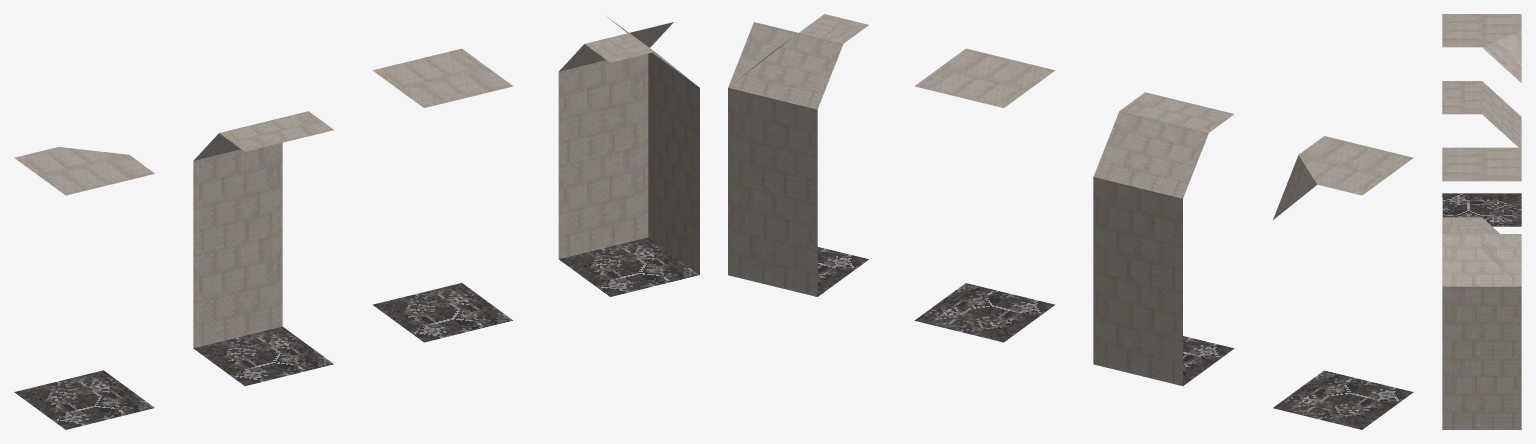
The model's file is tileset.gltf.
3 renders of one model, left to right at view 1: azimuth 30°, elevation 25°; view 2: azimuth 150°, elevation 25°; view 3: azimuth 270°, elevation 25°, orthographic. The views are drawn at different scales.
Visible parts, largest first — view 1: corner, wall, floor, corner-out; view 2: wall, corner, corner-out, floor; view 3: corner, corner-out, floor, wall.
Boxes of the visible parts, box(x1,y1,x2,y2) form: corner: box(558, 17, 699, 296); wall: box(193, 111, 333, 385); floor: box(373, 48, 513, 342); corner-out: box(14, 147, 154, 429); wall: box(1093, 92, 1234, 385); corner: box(728, 14, 868, 296); corner-out: box(1273, 136, 1413, 429); floor: box(914, 48, 1054, 342); corner: box(1442, 217, 1521, 429); corner-out: box(1442, 14, 1521, 226); floor: box(1442, 147, 1521, 181); wall: box(1442, 81, 1521, 147).
Bounding box in the file's own units: 7.08 × 2.5 × 1.
Materials: 1 (1 with a texture image).
